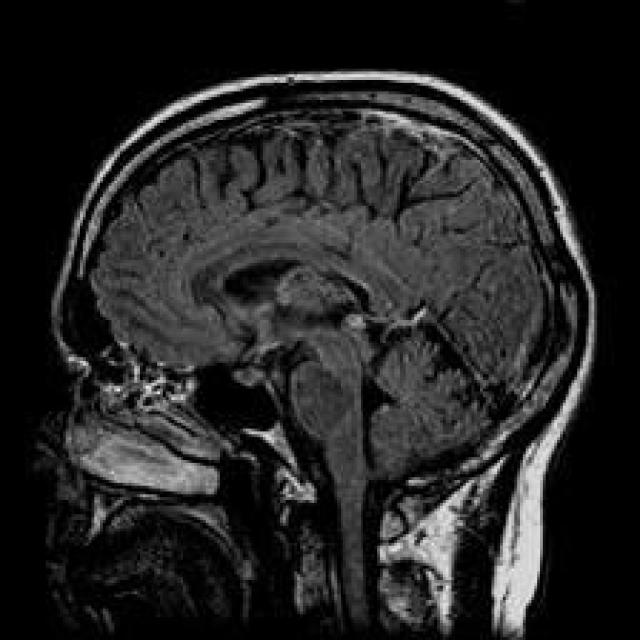no_tumor: (57, 69, 591, 640)
